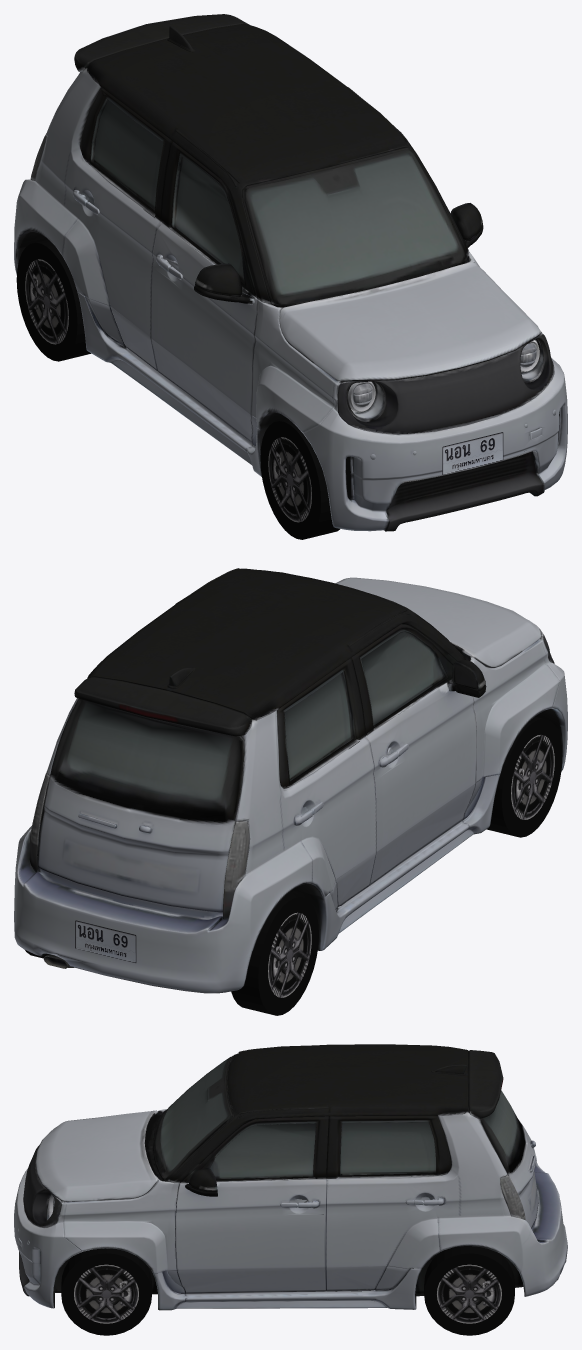
The model's file is superone.fbx.
3 renders of one model, top to bottom at view 1: azimuth 30°, elevation 25°; view 2: azimuth 150°, elevation 25°; view 3: azimuth 270°, elevation 25°, orthographic. The views are drawn at different scales.
Parts seen in each view (by area): view 1: Body, Front_right_wheel, Wheel, License_plate; view 2: Body, Wheel, Front_right_wheel, License_plate; view 3: Body, Wheel, Front_left_wheel.
Part boxes in pixels (x1,y1,x2,y2): Body: (14,14,567,531); Front_right_wheel: (260,419,339,539); Wheel: (16,239,91,361); License_plate: (442,432,503,474); Body: (14,568,567,993); Wheel: (25,894,318,1015); Front_right_wheel: (486,716,562,837); License_plate: (75,920,136,962); Body: (14,1044,567,1310); Wheel: (424,1246,514,1335); Front_left_wheel: (61,1248,151,1335).
Size of the model in its own units: 157 by 161 by 357.
4 materials, 3 textured.
